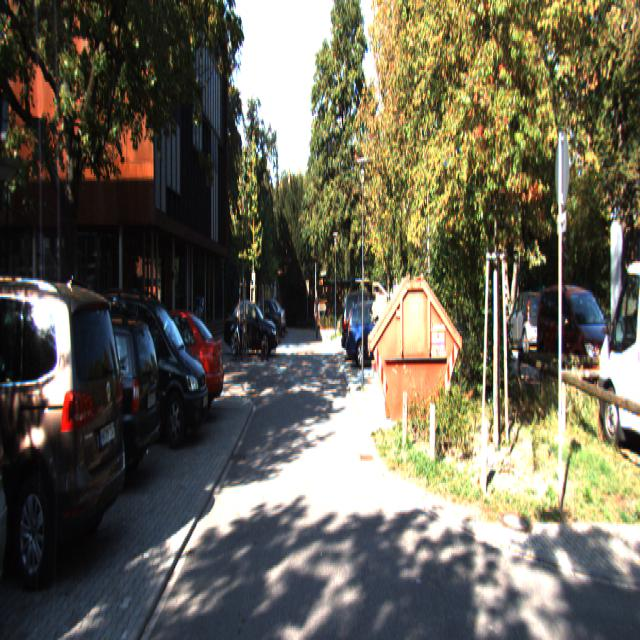Car: (0, 263, 131, 582), (0, 301, 167, 493), (84, 280, 212, 445), (113, 306, 225, 424), (533, 278, 628, 401), (592, 256, 640, 471), (346, 297, 406, 367), (341, 287, 397, 360), (225, 299, 279, 356)
